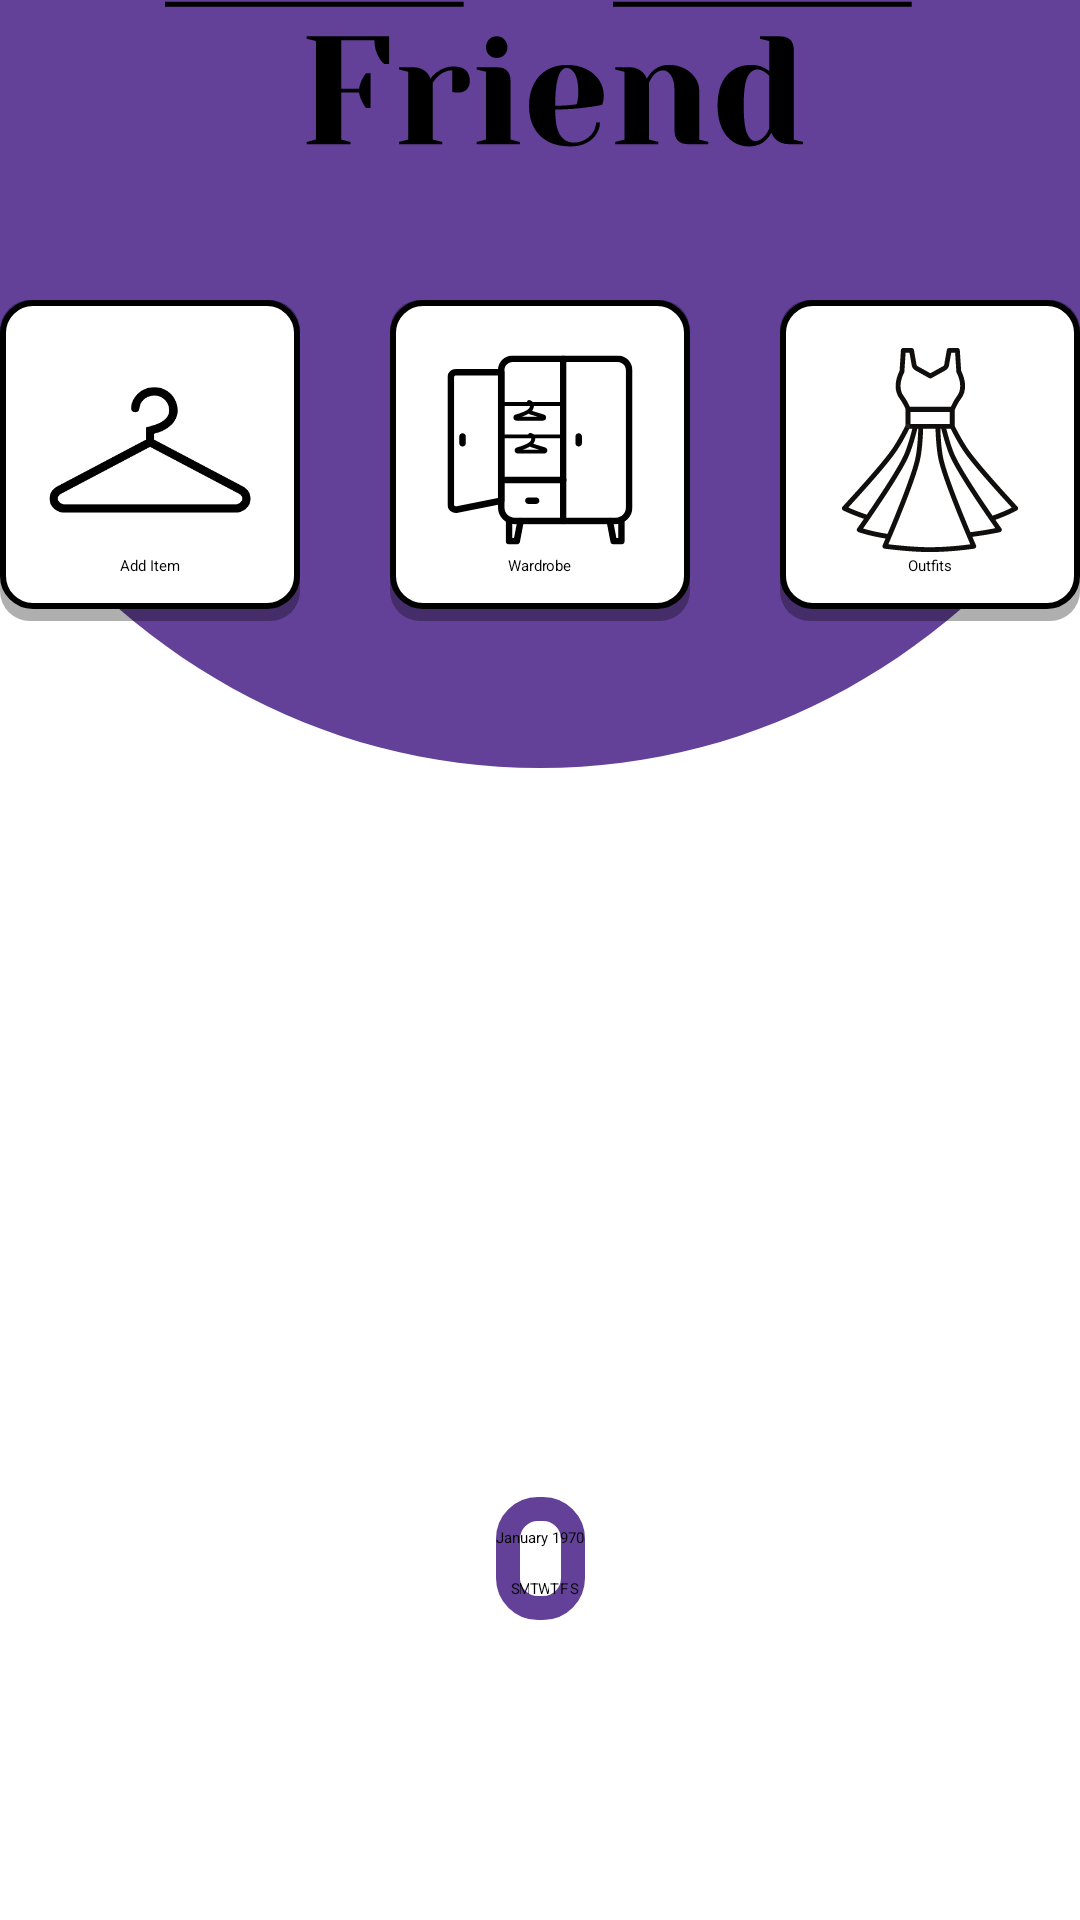

Where to tap for icons on this 1080 × 1920 app screen, as [x,y]:
hanger: [150,450]
